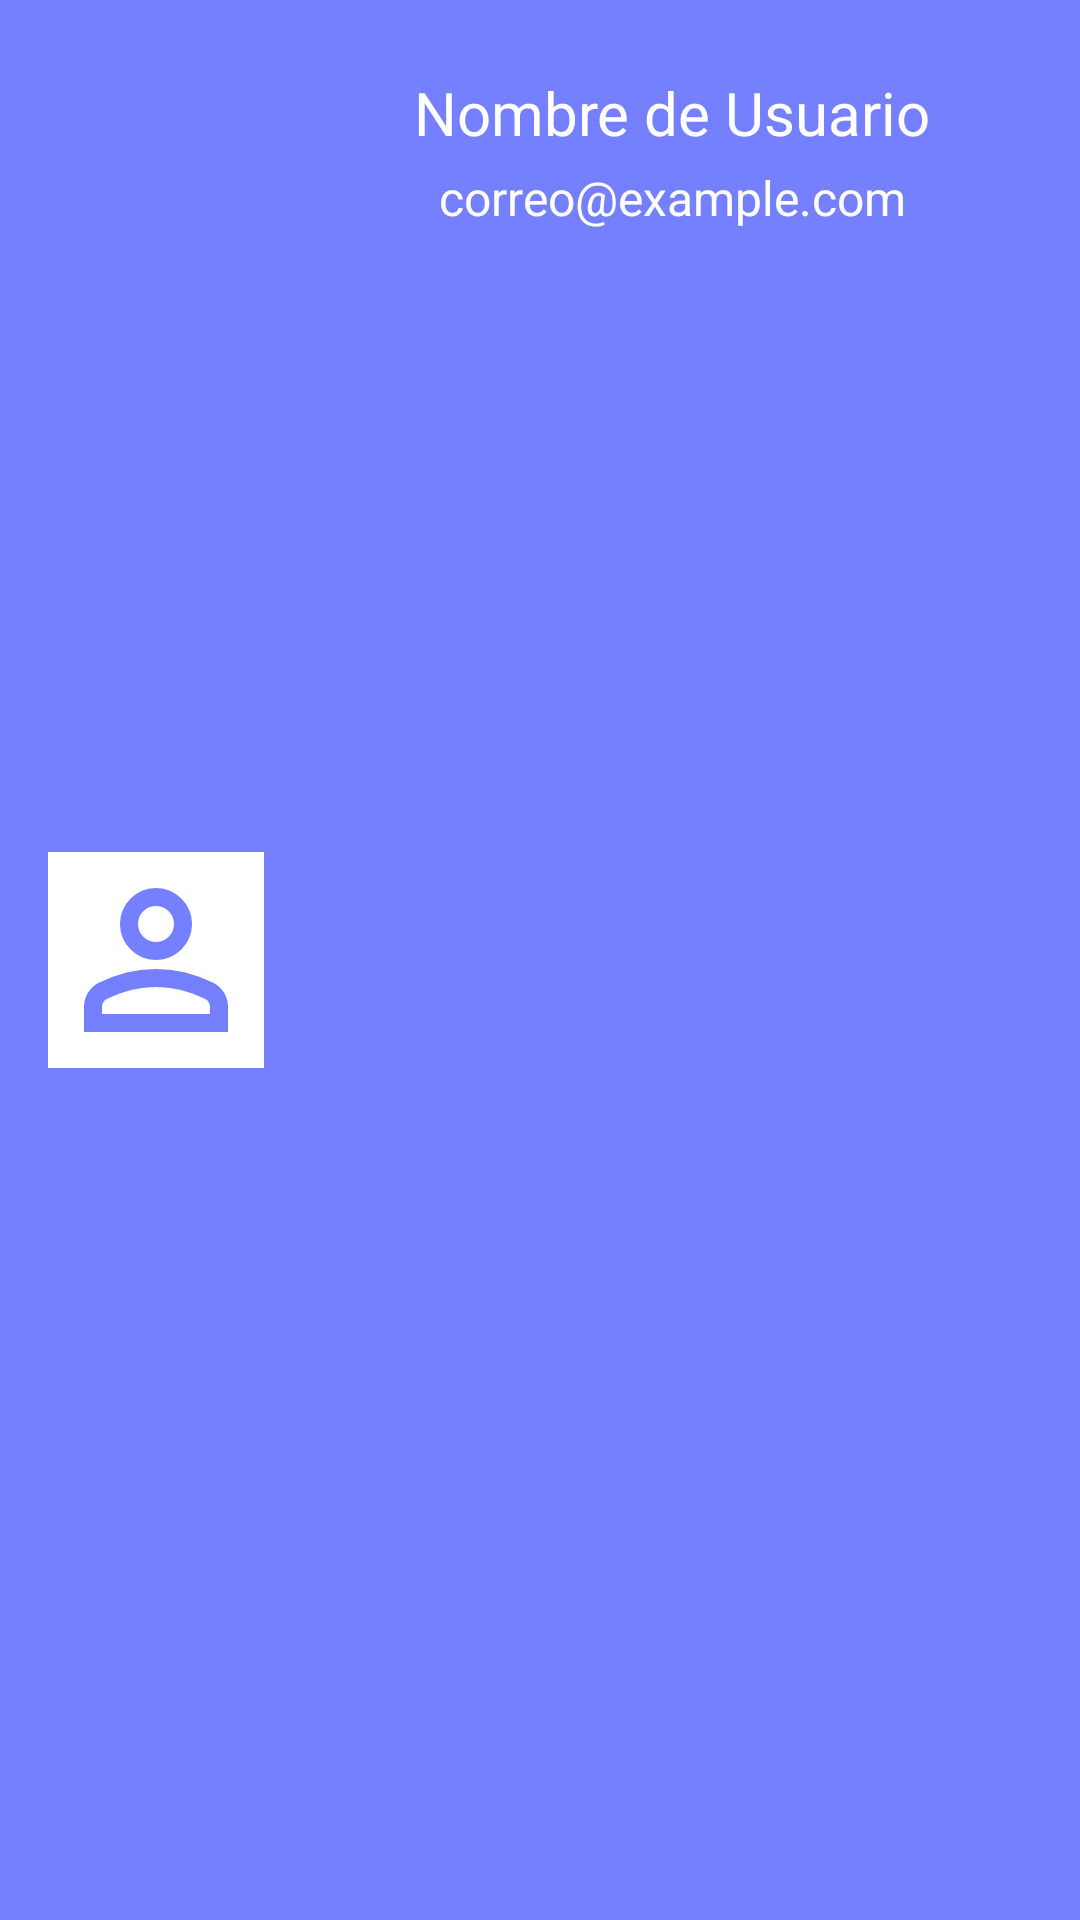

Where icons sit on this 1080*1920 app screen, as (x1, y1, x2, y2):
person: (48, 852, 264, 1068)
